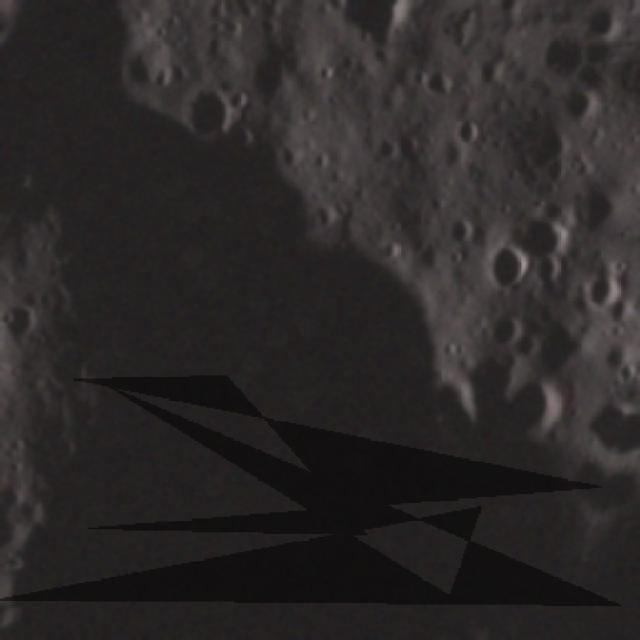crater: (505, 201, 584, 281), (496, 373, 573, 450), (320, 0, 409, 65), (173, 74, 244, 148), (564, 178, 633, 248), (236, 46, 307, 114), (473, 236, 538, 301), (121, 41, 181, 104), (467, 306, 527, 363), (575, 268, 628, 320), (0, 295, 43, 354), (438, 208, 484, 257), (558, 86, 605, 132), (444, 111, 488, 154), (412, 64, 457, 104), (199, 0, 246, 8)
